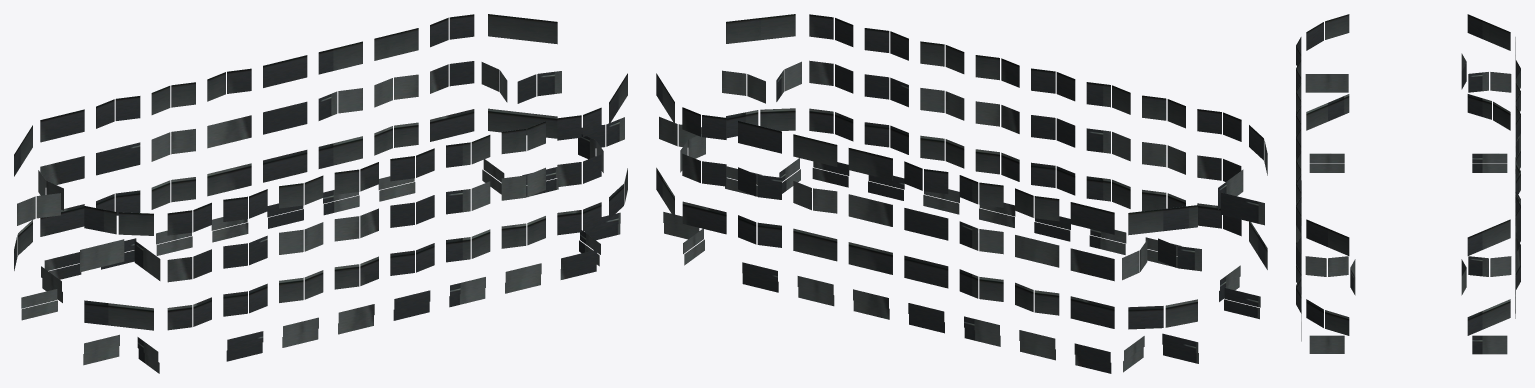
The model's file is TRANS_Building_4stores_PopularHouse.obj.
3 renders of one model, left to right at view 1: azimuth 30°, elevation 25°; view 2: azimuth 150°, elevation 25°; view 3: azimuth 270°, elevation 25°, orthographic. The views are drawn at different scales.
Parts seen in each view (by area): view 1: TRANS_Building_4stores_PopularHouse; view 2: TRANS_Building_4stores_PopularHouse; view 3: TRANS_Building_4stores_PopularHouse.
Part boxes in pixels (bbox=[...]): TRANS_Building_4stores_PopularHouse: bbox=[14, 14, 627, 373]; TRANS_Building_4stores_PopularHouse: bbox=[656, 14, 1267, 373]; TRANS_Building_4stores_PopularHouse: bbox=[1296, 14, 1520, 354].
Bounding box in the file's own units: 12.85 × 3.69 × 5.45.
